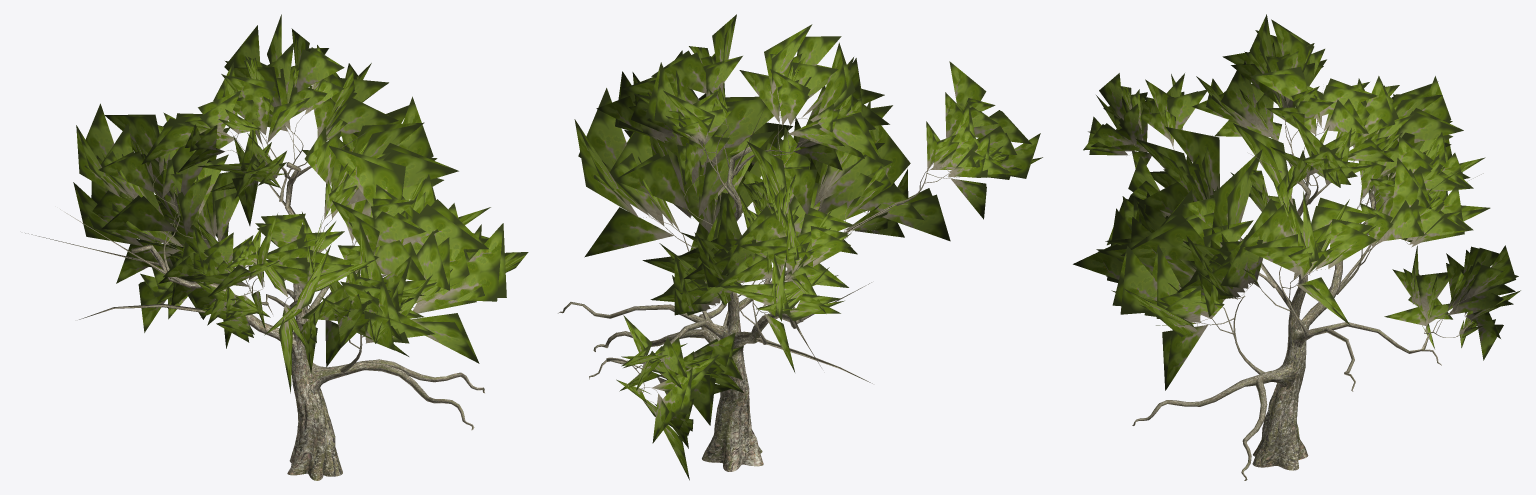
Rendered from oak12.obj.
3 renders of one model, left to right at view 1: azimuth 30°, elevation 25°; view 2: azimuth 150°, elevation 25°; view 3: azimuth 270°, elevation 25°, orthographic. The views are drawn at different scales.
Visible parts, largest first — view 1: oak leaf, mossybark03; view 2: oak leaf, mossybark03; view 3: oak leaf, mossybark03.
Boxes of the visible parts, x1,y1,x2,y2 form: oak leaf: (73,14,528,393); mossybark03: (25,93,484,480); oak leaf: (574,14,1042,480); mossybark03: (558,95,959,471); oak leaf: (1073,14,1520,390); mossybark03: (1132,92,1483,480).
Bounding box in the file's own units: 680 × 771 × 769.
2 materials, 2 textured.
